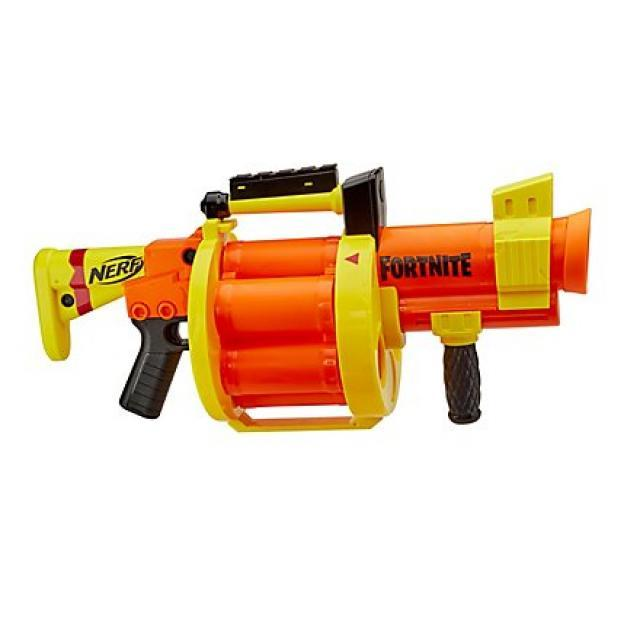rocket launcher: (41, 152, 596, 449)
